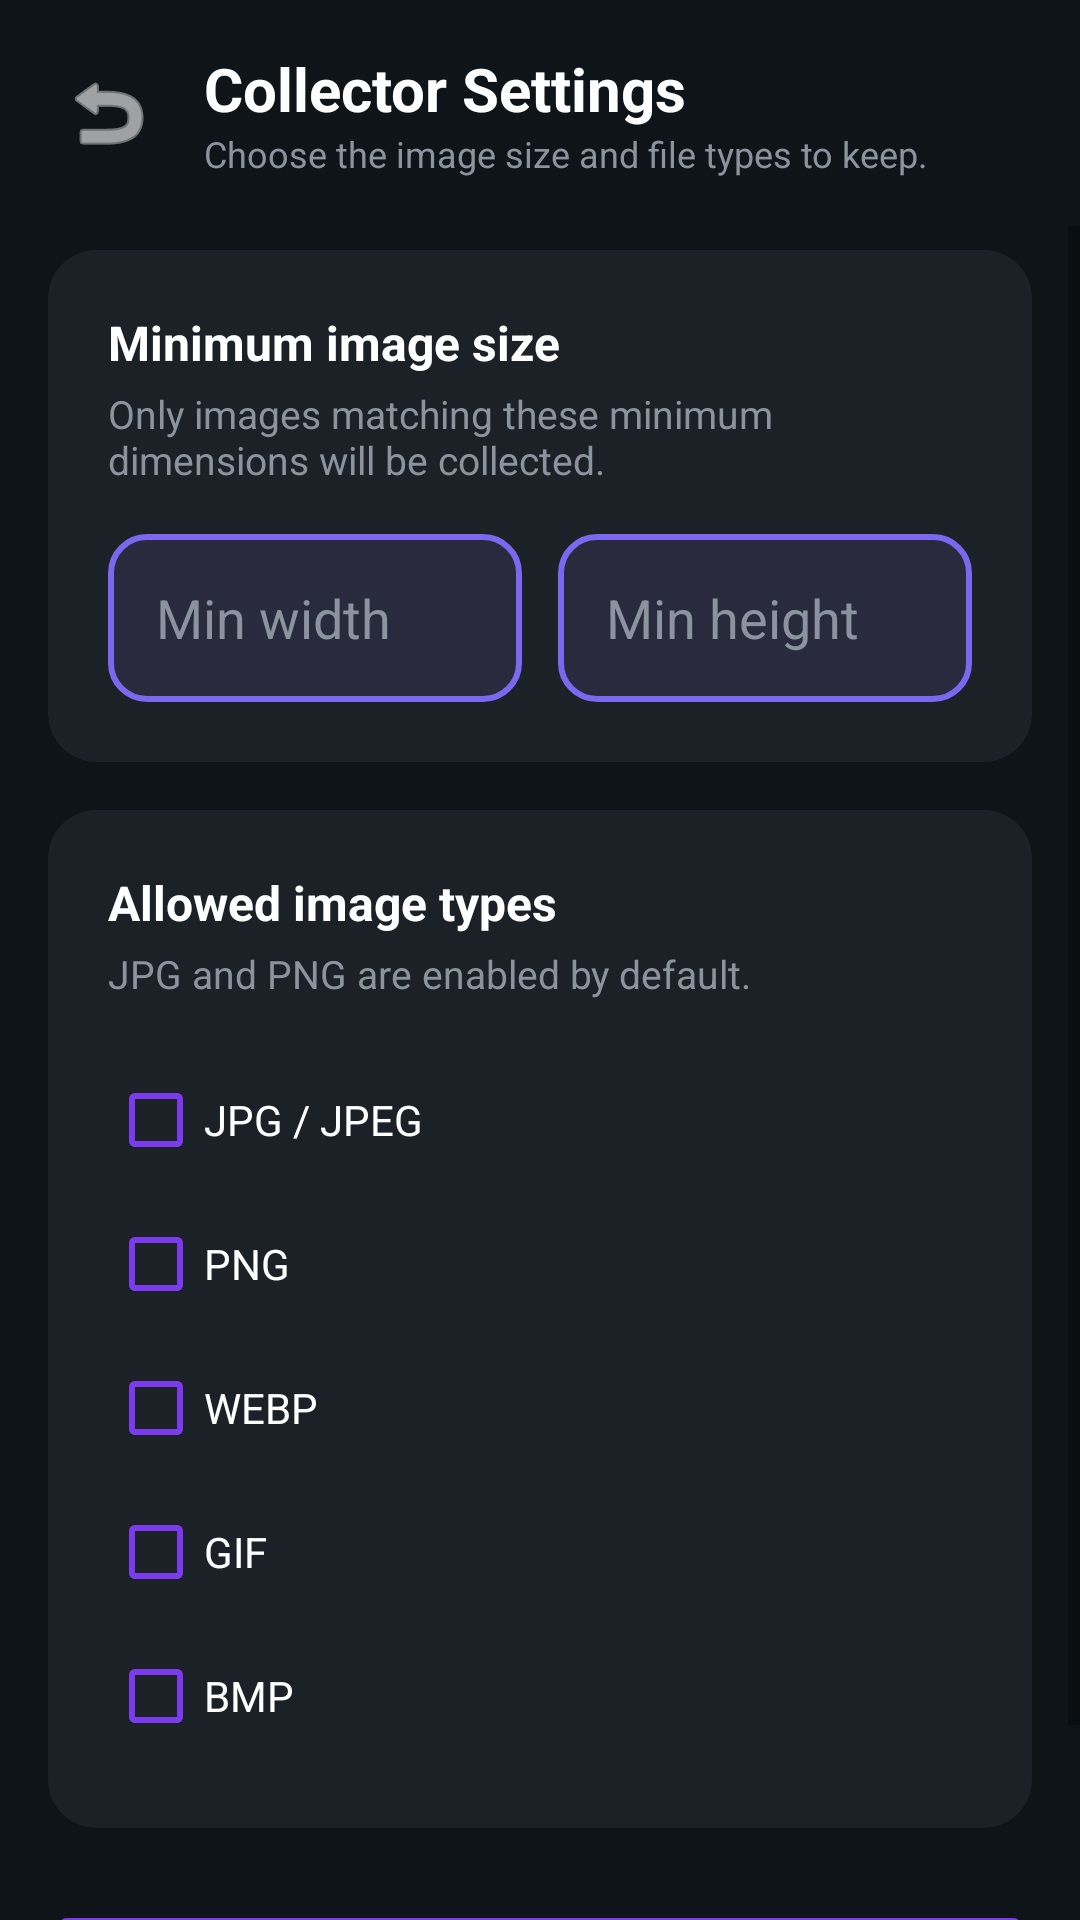

Where icons sit on this 1080w x 1920h app screen, as (x1, y1, x2, y2):
Back: (75, 82, 144, 145)
